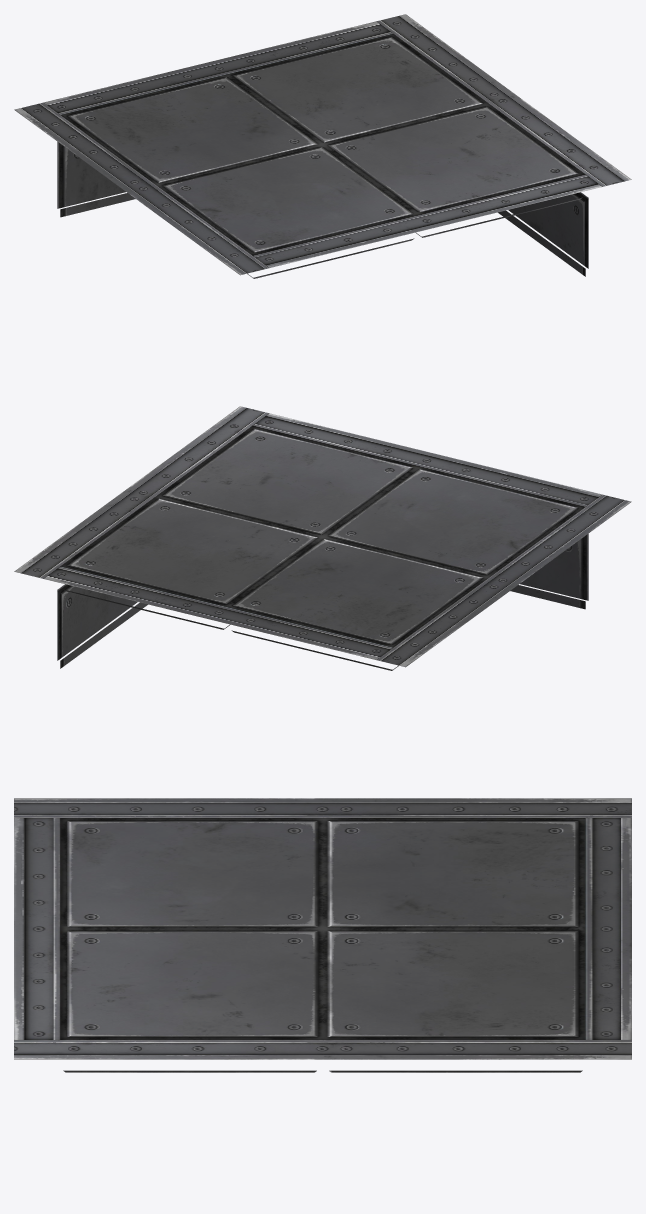
File: kit_ceiling.glb
3 renders of one model, top to bottom at view 1: azimuth 30°, elevation 25°; view 2: azimuth 150°, elevation 25°; view 3: azimuth 270°, elevation 25°, orthographic. The views are drawn at different scales.
Visible parts, largest first — view 1: kit_ceiling; view 2: kit_ceiling; view 3: kit_ceiling.
Part boxes in pixels (x1,y1,x2,y2): kit_ceiling: (14,14,631,278); kit_ceiling: (14,406,631,670); kit_ceiling: (14,798,631,1072).
Size of the model in its own units: 4 by 1 by 4.
Materials: 1 (1 with a texture image).
